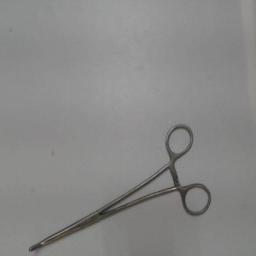Lahey Forceps: (25, 118, 217, 254)
